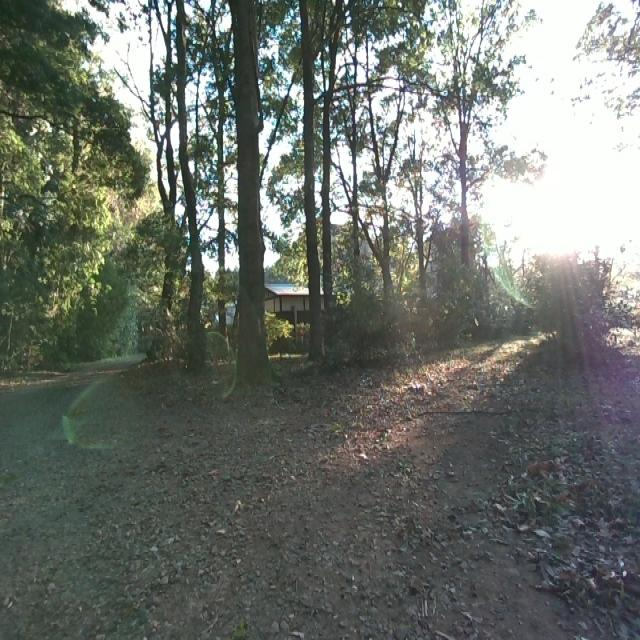artifact: (252, 270, 330, 340)
bush: (520, 247, 640, 380), (432, 262, 512, 350), (331, 298, 420, 356)
tree: (224, 0, 280, 403), (174, 0, 206, 379), (301, 0, 335, 356), (362, 53, 402, 340)
